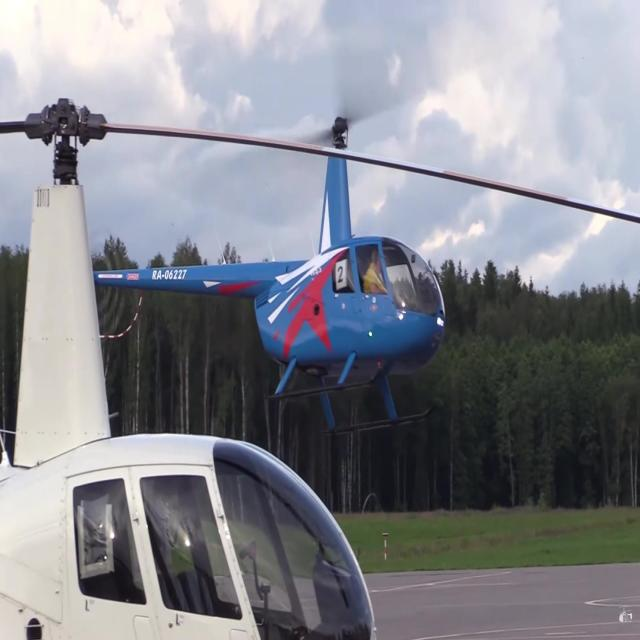CIV_HELO: (92, 115, 448, 440)
